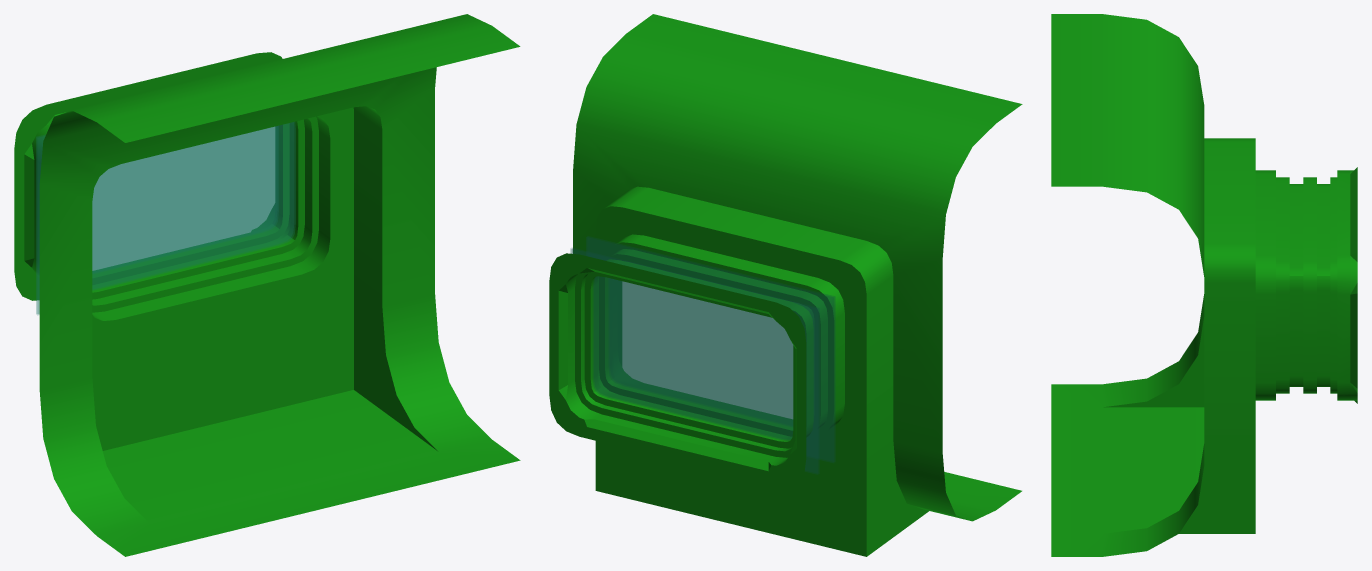
Rendered from Room_Wall_Win_A.FBX.
The picture shows the model from 3 angles, left to right: view 1: azimuth 30°, elevation 25°; view 2: azimuth 150°, elevation 25°; view 3: azimuth 270°, elevation 25°; orthographic projection. The views are drawn at different scales.
Parts seen in each view (by area): view 1: Room_Wall_Win_A; view 2: Room_Wall_Win_A; view 3: Room_Wall_Win_A.
Boxes of the visible parts, x1,y1,x2,y2 form: Room_Wall_Win_A: (14,14,520,556); Room_Wall_Win_A: (549,14,1022,556); Room_Wall_Win_A: (1051,14,1357,556).
Bounding box in the file's own units: 300 × 300 × 225.
